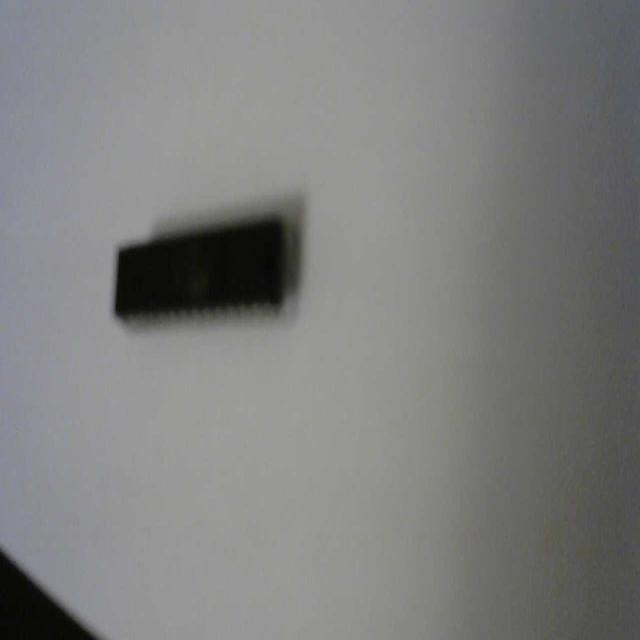atmega: (110, 194, 304, 330)
